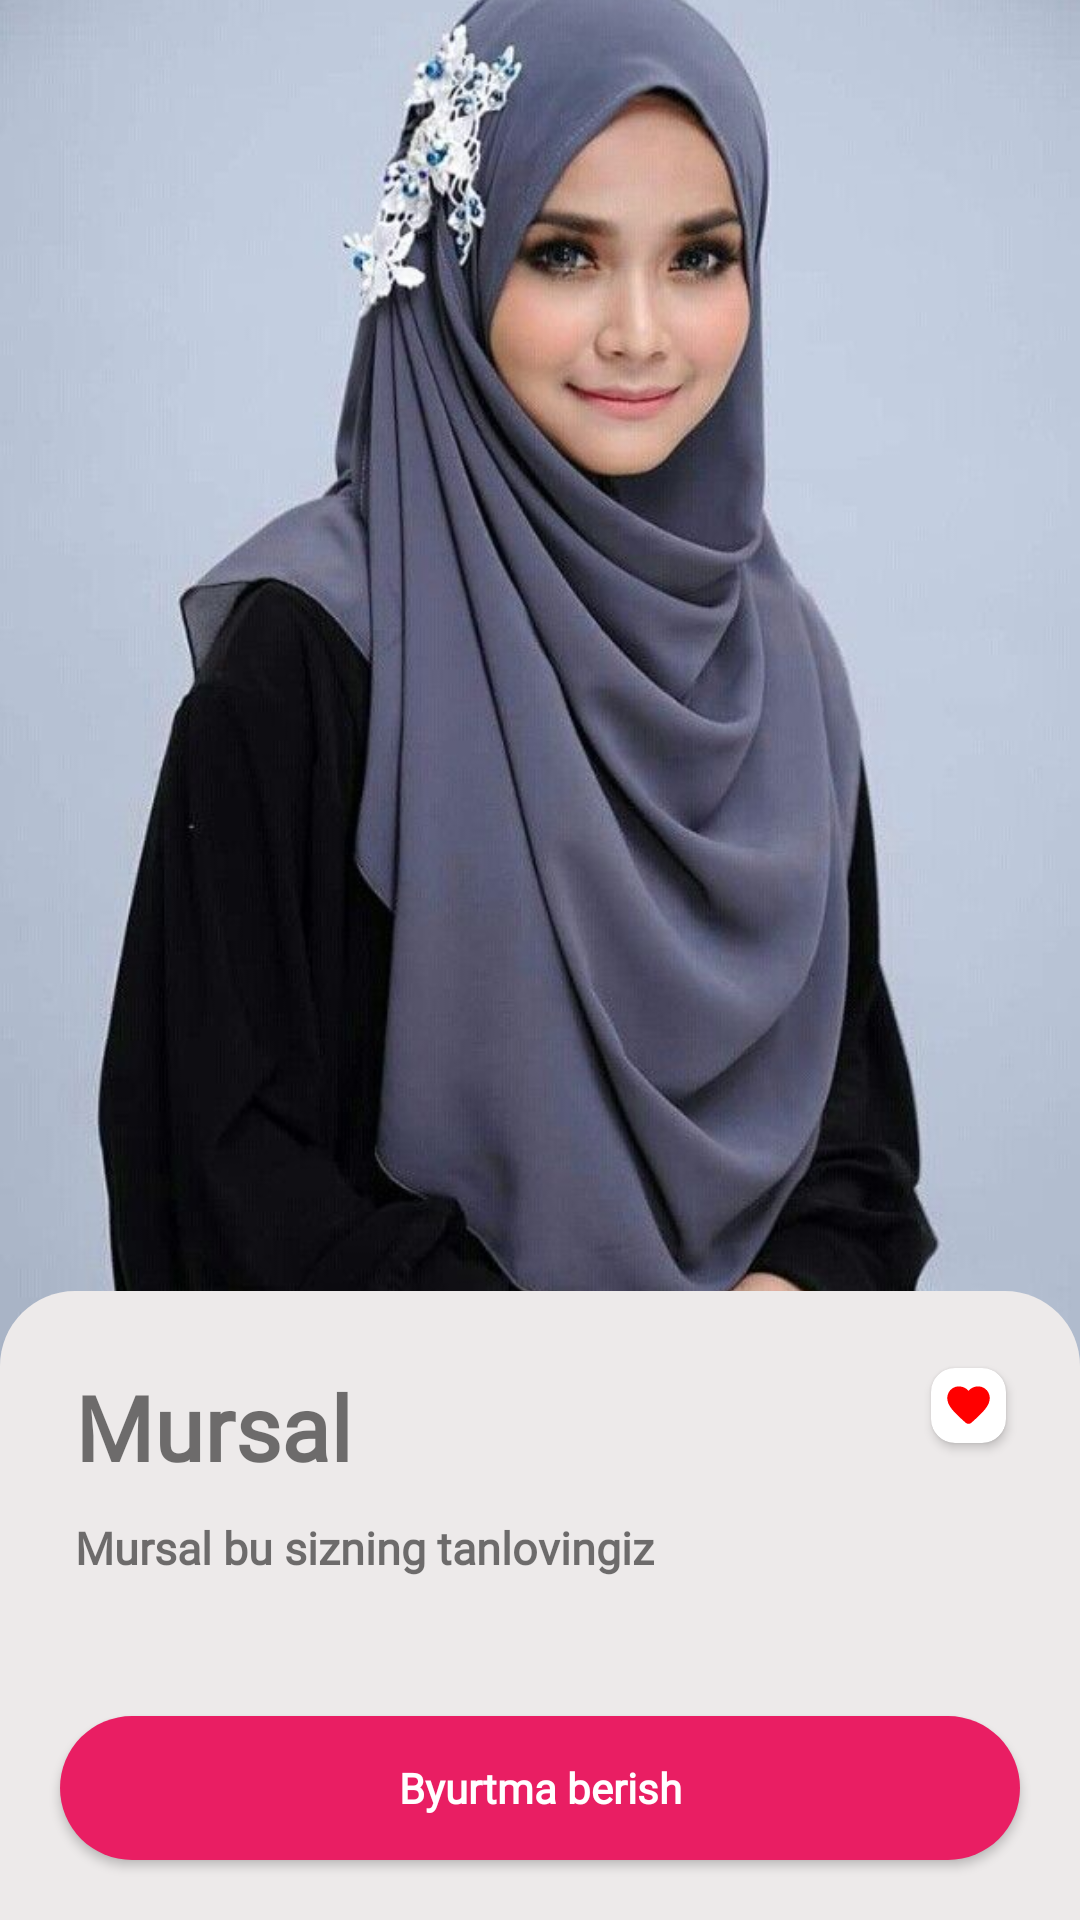

Point at icon controls on the screen. Image size 1080×1920, points as (x=x, y=y).
favorite: (x=968, y=1405)
